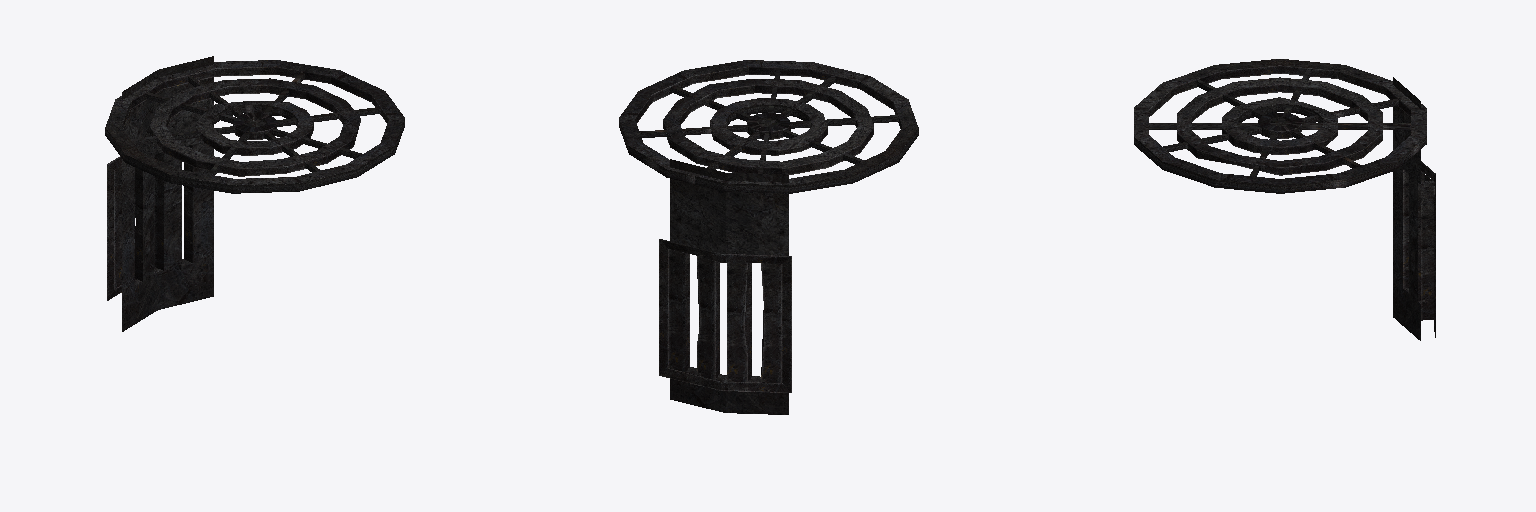
The picture shows the model from 3 angles: view 1: azimuth 30°, elevation 25°; view 2: azimuth 150°, elevation 25°; view 3: azimuth 270°, elevation 25°; orthographic projection.
Parts seen in each view (by area): view 1: Default_Layer; view 2: Default_Layer; view 3: Default_Layer.
Part boxes in pixels (x1,y1,x2,y2): Default_Layer: (105,56,404,331); Default_Layer: (619,60,918,414); Default_Layer: (1134,59,1435,340).
Bounding box in the file's own units: 2 × 1.77 × 1.95.
Materials: 2 (2 with a texture image).